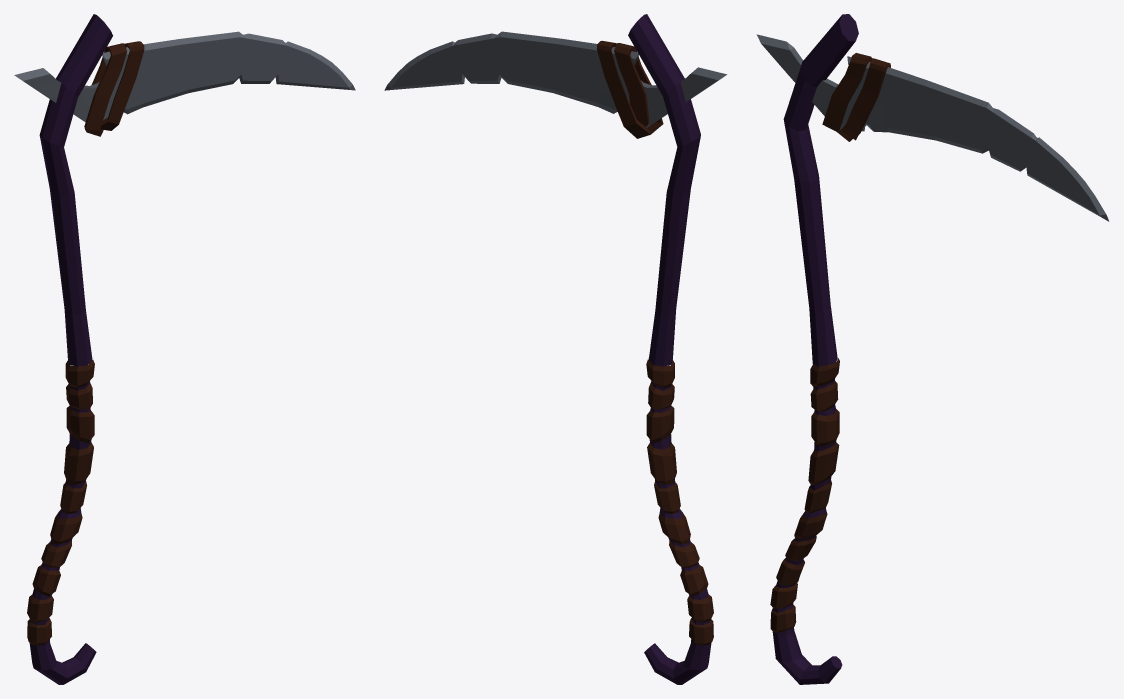
The model's file is Scythe.glb.
3 views of the same model, side by side, from view 1: azimuth 30°, elevation 25°; view 2: azimuth 150°, elevation 25°; view 3: azimuth 330°, elevation 25° (orthographic). The views are drawn at different scales.
Parts seen in each view (by area): view 1: Scythe; view 2: Scythe; view 3: Scythe.
Boxes of the visible parts, box(x1,y1,x2,y2) form: Scythe: box(14, 14, 355, 684); Scythe: box(384, 14, 727, 684); Scythe: box(756, 14, 1109, 684).
Bounding box in the file's own units: 0.6783 × 1.25 × 0.062.
